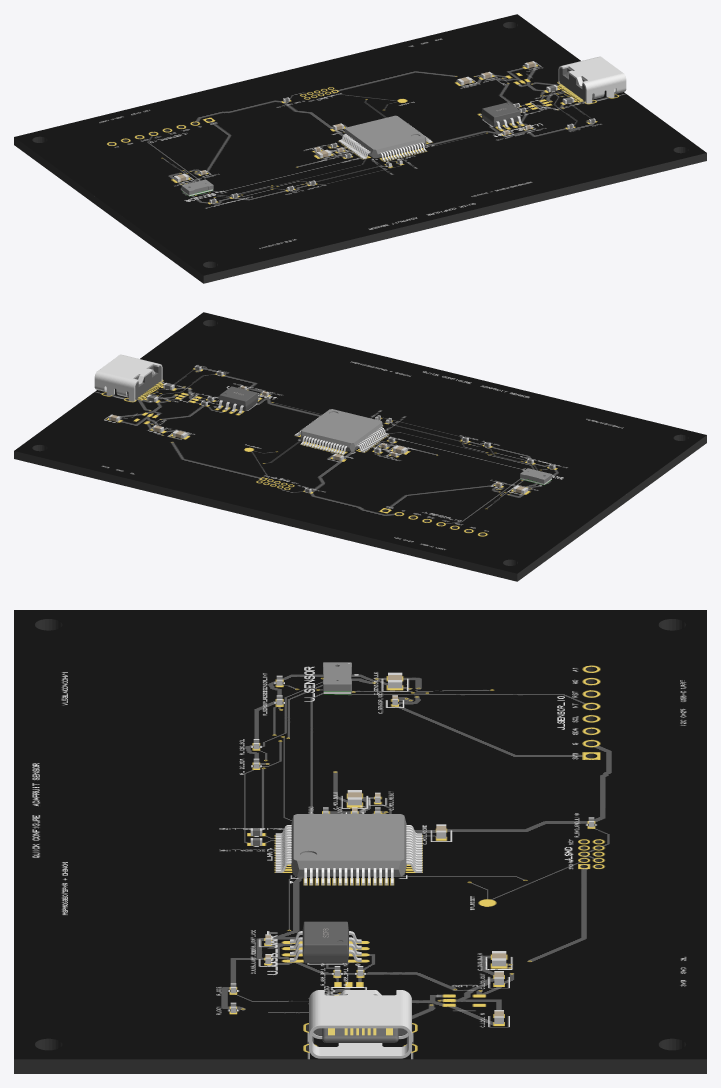
3 views of the same model, one above another, from view 1: azimuth 30°, elevation 25°; view 2: azimuth 150°, elevation 25°; view 3: azimuth 270°, elevation 25° (orthographic). The views are drawn at different scales.
Parts seen in each view (by area): view 1: Box0, U_MAIN, J_USB, U_USB_UART; view 2: Box0, U_MAIN, J_USB, U_USB_UART; view 3: Box0, U_MAIN, J_USB, U_USB_UART, U_SENSOR.
Part boxes in pixels (bbox=[...]): Box0: bbox=[14, 14, 706, 283]; U_MAIN: bbox=[338, 115, 432, 161]; J_USB: bbox=[558, 56, 626, 103]; U_USB_UART: bbox=[480, 102, 522, 129]; Box0: bbox=[14, 312, 706, 581]; U_MAIN: bbox=[294, 409, 388, 454]; J_USB: bbox=[94, 354, 162, 401]; U_USB_UART: bbox=[217, 386, 259, 413]; Box0: bbox=[14, 610, 706, 1073]; U_MAIN: bbox=[275, 814, 422, 885]; J_USB: bbox=[309, 990, 411, 1058]; U_USB_UART: bbox=[290, 921, 361, 963]; U_SENSOR: bbox=[323, 662, 351, 694].
Size of the model in its own units: 92.04 by 4.65 by 60.
23 materials, 2 textured.
